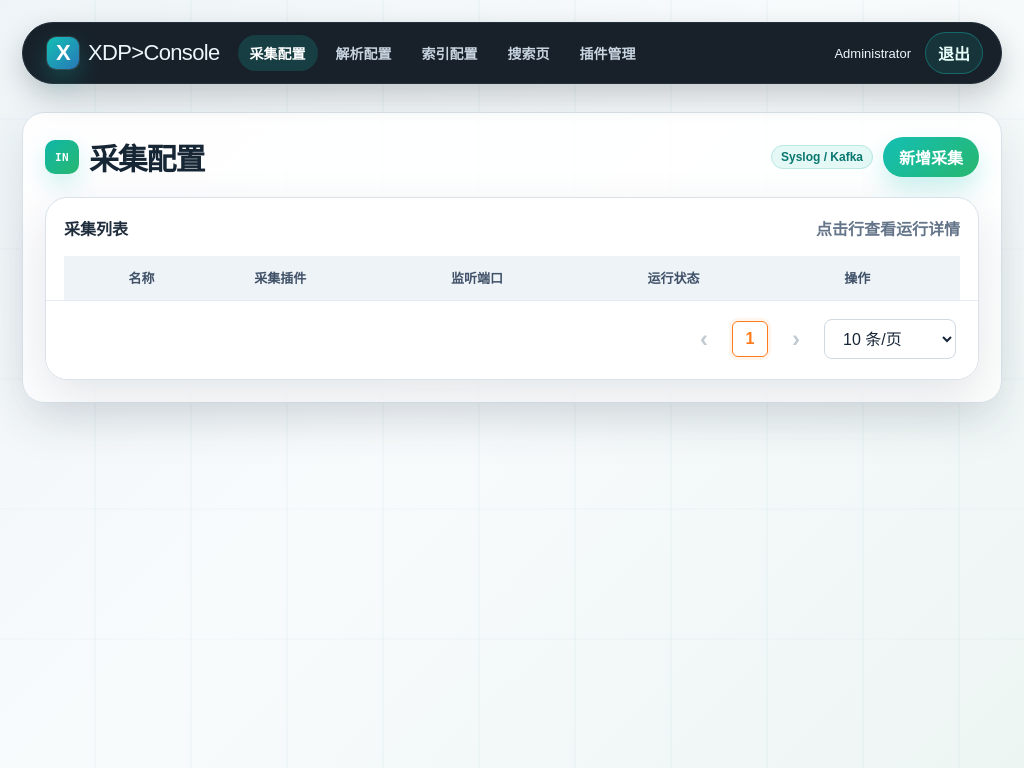
Test case: XDP collection config API integration › loads the enabled input catalog when opening the collect page directly
Click the button with test id "show-input-form" at (931, 157), box left=883, top=137, right=979, bottom=177
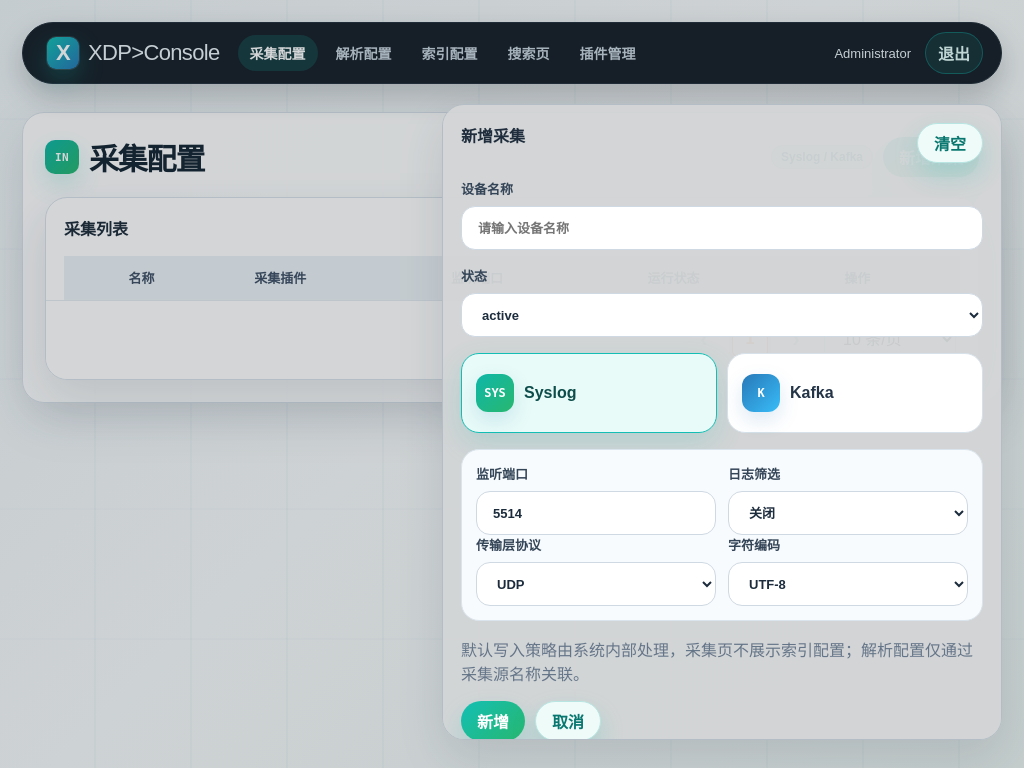
Check: the button with test id "input-plugin-kafka" shows "Kafka", box left=727, top=353, right=983, bottom=433
